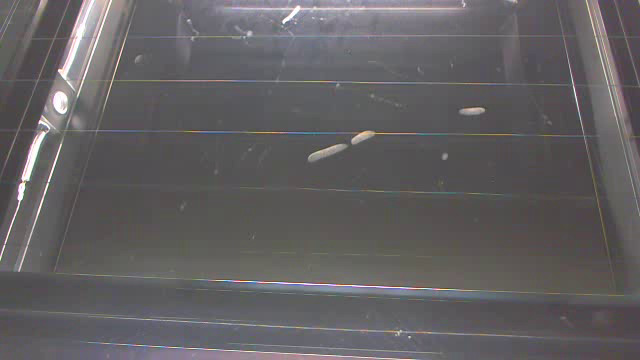alpha: (301, 105, 382, 186), (456, 95, 488, 127), (279, 3, 308, 32)
